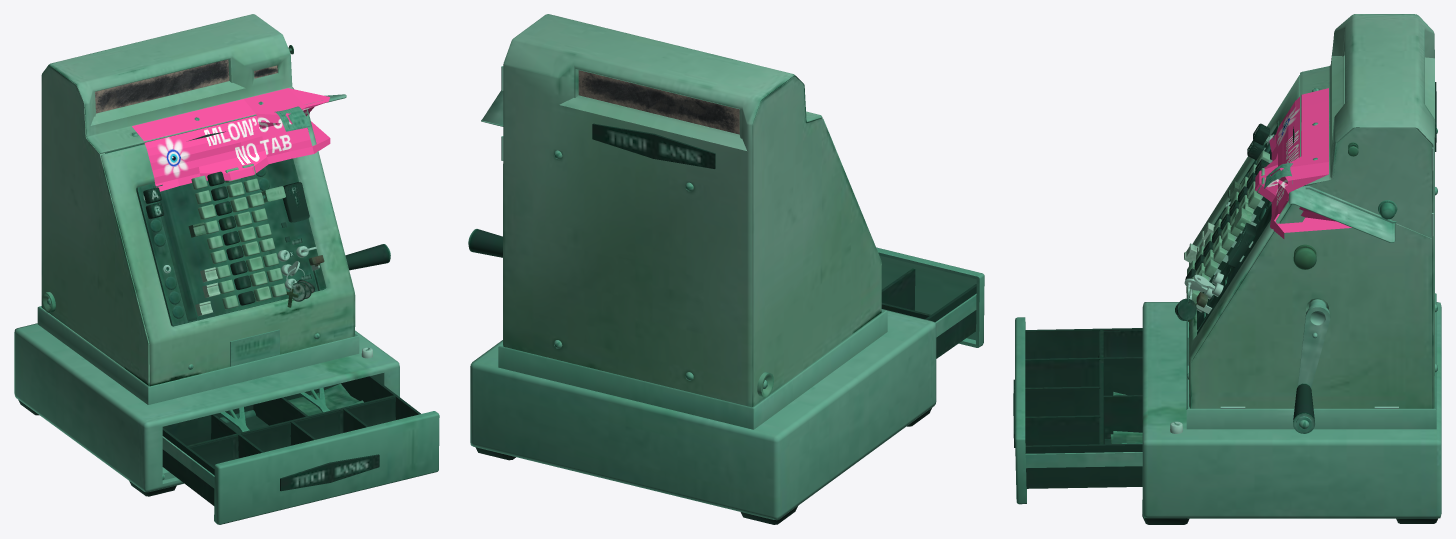
File: nyb_batteries_register.glb
3 renders of one model, left to right at view 1: azimuth 30°, elevation 25°; view 2: azimuth 150°, elevation 25°; view 3: azimuth 270°, elevation 25°, orthographic. The views are drawn at different scales.
Parts seen in each view (by area): view 1: CashRegister_01_body, stk_lbl_7ab8e8df26.png; view 2: CashRegister_01_body; view 3: CashRegister_01_body, stk_lbl_7ab8e8df26.png.
Boxes of the visible parts, box(x1,y1,x2,y2) form: CashRegister_01_body: box(14, 14, 439, 524); stk_lbl_7ab8e8df26.png: box(132, 88, 330, 191); CashRegister_01_body: box(468, 14, 984, 524); CashRegister_01_body: box(1013, 14, 1441, 524); stk_lbl_7ab8e8df26.png: box(1255, 88, 1351, 238).
Bounding box in the file's own units: 0.6005 × 0.6213 × 0.6242.
Materials: 3 (3 with a texture image).
